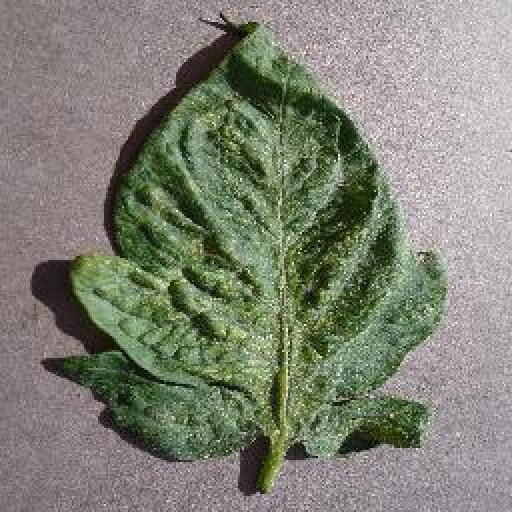disease_tomato: (44, 20, 446, 466)
